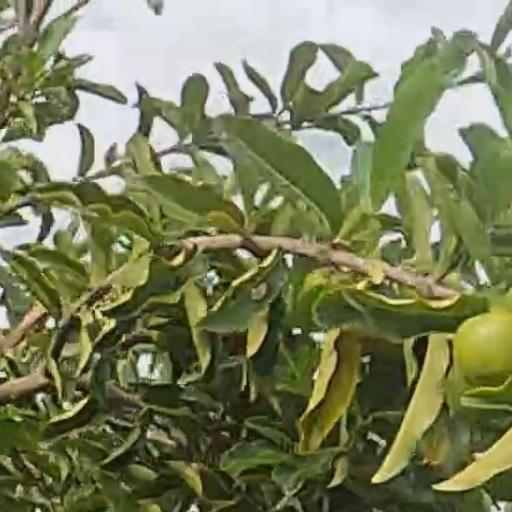acerola_verde: (457, 312, 512, 386)
